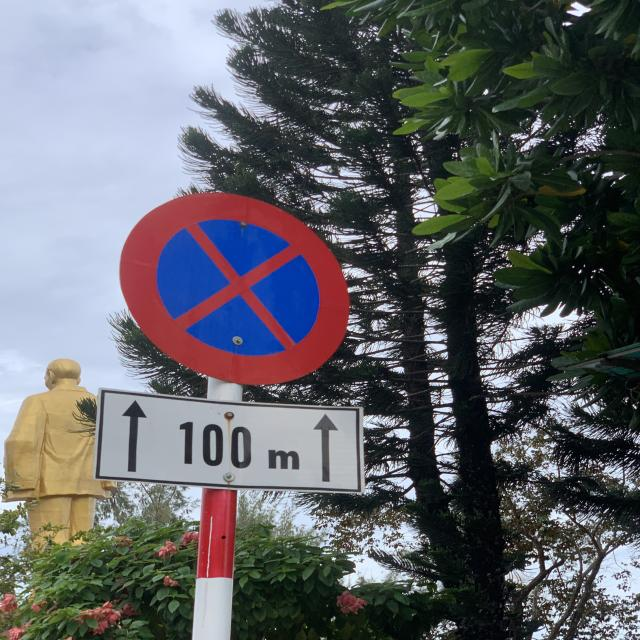Cam_Dung_Va_Dau_Xe: (118, 192, 350, 385)
